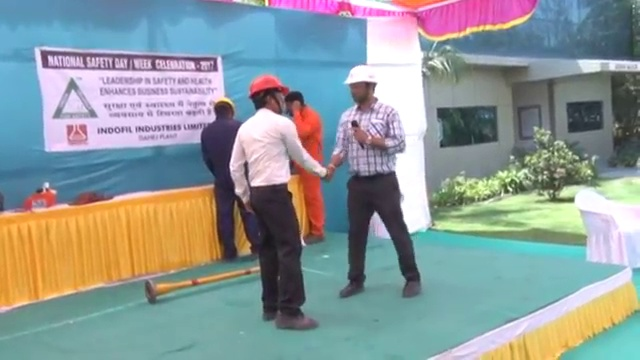helmet: (342, 62, 380, 88), (248, 75, 289, 96), (213, 97, 237, 114)
helmet_off: (229, 75, 328, 331), (200, 94, 261, 262), (285, 87, 329, 246), (285, 89, 307, 119)
helmet_on: (342, 62, 381, 111), (247, 73, 287, 119), (211, 96, 238, 122)
person: (328, 62, 424, 298)
